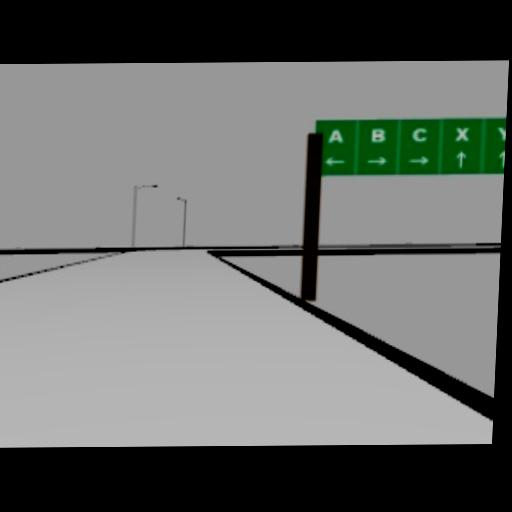A: (326, 127, 342, 144)
B: (371, 127, 385, 141)
C: (410, 127, 428, 141)
Left: (323, 156, 344, 165)
Right: (366, 156, 387, 165), (407, 155, 428, 164)
Straight: (455, 149, 467, 170), (497, 149, 505, 169)
X: (455, 126, 469, 141)
Y: (495, 126, 506, 140)
